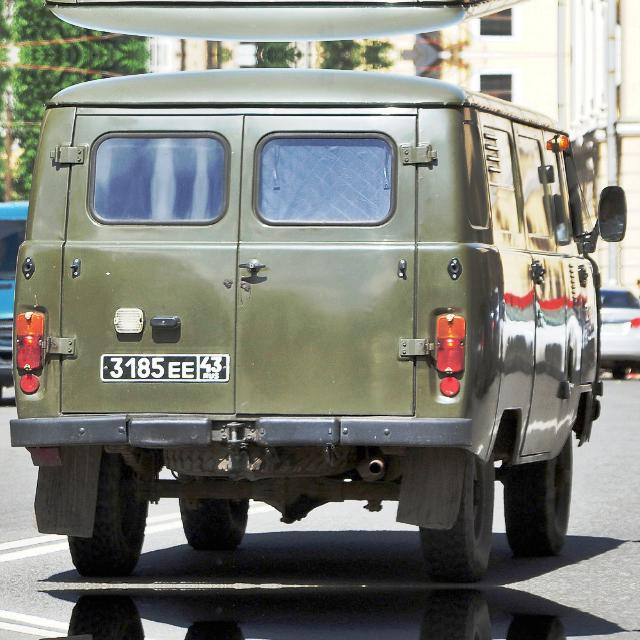military: (95, 348, 238, 387)
